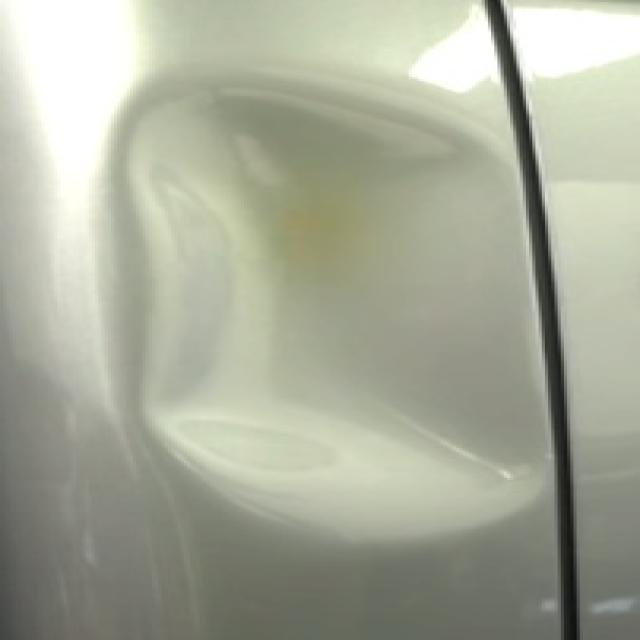dent: (121, 77, 558, 551)
